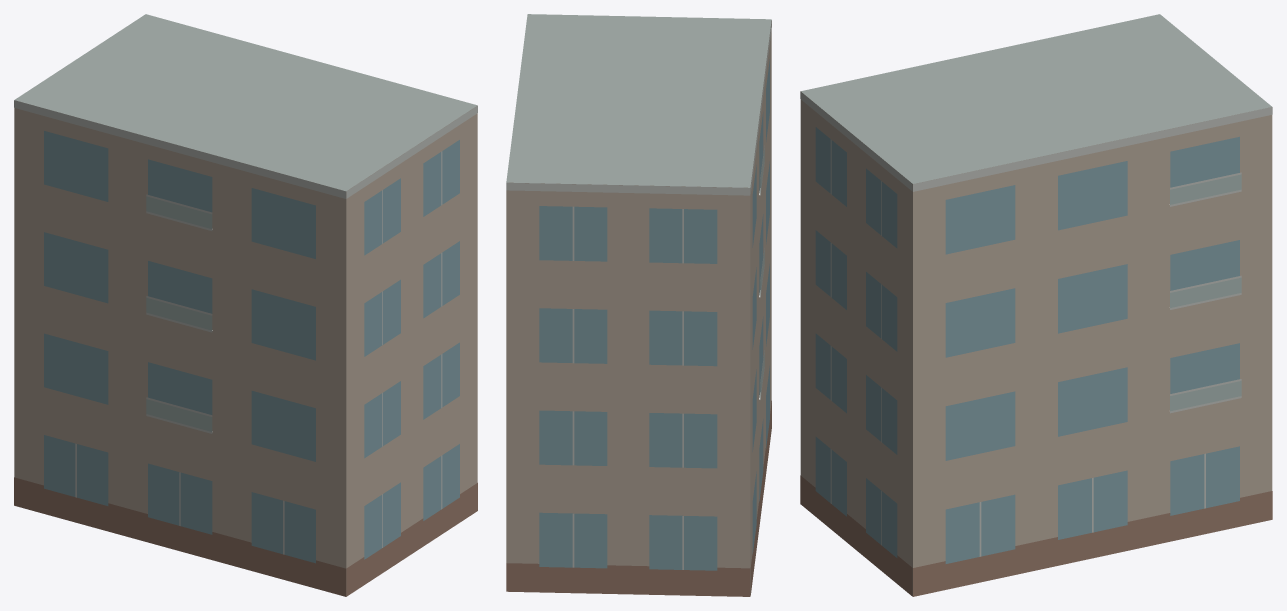
File: survey-upis-32948447.glb
The picture shows the model from 3 angles, left to right: view 1: azimuth 30°, elevation 25°; view 2: azimuth 150°, elevation 25°; view 3: azimuth 270°, elevation 25°; orthographic projection.
Parts seen in each view (by area): view 1: survey-upis-32948447.tmp; view 2: survey-upis-32948447.tmp; view 3: survey-upis-32948447.tmp.
Part boxes in pixels (x1,y1,x2,y2): survey-upis-32948447.tmp: (14,14,477,596); survey-upis-32948447.tmp: (506,14,771,596); survey-upis-32948447.tmp: (800,14,1272,596).
Size of the model in its own units: 11.32 by 12.8 by 13.27.
